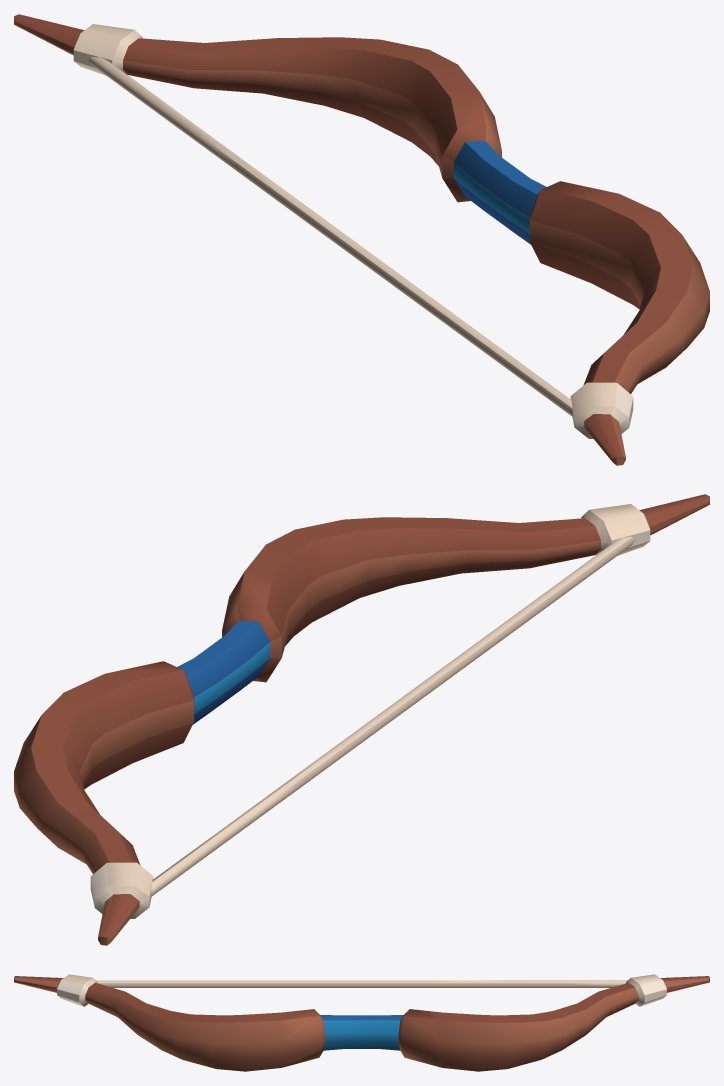
File: bow_withString.gltf
3 renders of one model, top to bottom at view 1: azimuth 30°, elevation 25°; view 2: azimuth 150°, elevation 25°; view 3: azimuth 270°, elevation 25°, orthographic. The views are drawn at different scales.
Visible parts, largest first — view 1: bow_withString; view 2: bow_withString; view 3: bow_withString.
Boxes of the visible parts, left/top/right/bottom form: bow_withString: left=14, top=14, right=709, bottom=465; bow_withString: left=14, top=494, right=709, bottom=945; bow_withString: left=14, top=974, right=709, bottom=1071.
Bounding box in the file's own units: 0.4944 × 0.1555 × 1.98.
Materials: 1 (1 with a texture image).
